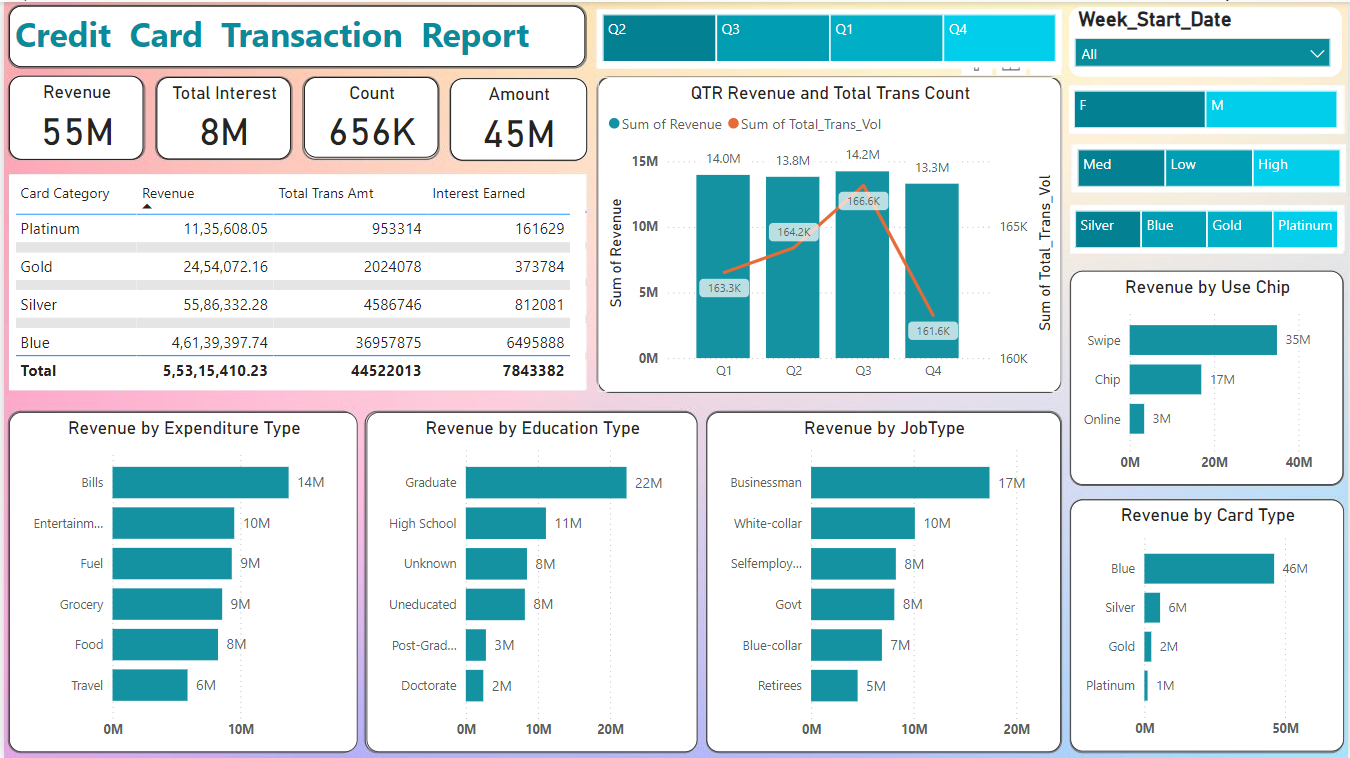

The dashboard page shown, as its layout file describes it:
{"tool":"powerbi","page":{"name":"CC Transaction","canvas":[1280,720],"ordinal":1},"visuals":[{"type":"textbox","box":[5.3,4,549,58.7],"z":0},{"type":"lineStackedColumnComboChart","title":"QTR Revenue and Total Trans Count","fields":{"Category":["Processed_Credit_Card_Data.Qtr"],"Y":["Sum(Processed_Credit_Card_Data.Revenue)"],"Y2":["Sum(Processed_Credit_Card_Data.Total_Trans_Vol)"]},"box":[565.8,71,441.7,300.8],"z":1000},{"type":"barChart","title":"Revenue by Expenditure Type","fields":{"Y":["Sum(Processed_Credit_Card_Data.Revenue)"],"Category":["Processed_Credit_Card_Data.Exp Type"]},"box":[4.8,390.5,332.1,323.8],"z":2000},{"type":"barChart","title":"Revenue by Education Type","fields":{"Y":["Sum(Processed_Credit_Card_Data.Revenue)"],"Category":["customer.Education_Level"]},"box":[345,390,315,324.4],"z":3000},{"type":"barChart","title":"Revenue by JobType","fields":{"Y":["Sum(Processed_Credit_Card_Data.Revenue)"],"Category":["customer.Customer_Job"]},"box":[669.4,390,337.5,324.4],"z":4000},{"type":"barChart","title":"Revenue by Card Type","fields":{"Y":["Sum(Processed_Credit_Card_Data.Revenue)"],"Category":["Processed_Credit_Card_Data.Card_Category"]},"box":[1015,474.4,260.6,240],"z":5000},{"type":"barChart","title":"Revenue by Use Chip","fields":{"Y":["Sum(Processed_Credit_Card_Data.Revenue)"],"Category":["Processed_Credit_Card_Data.Use Chip"]},"box":[1015,255.8,260,204.2],"z":6000},{"type":"tableEx","fields":{"Values":["Processed_Credit_Card_Data.Card_Category","Sum(Processed_Credit_Card_Data.Revenue)","Sum(Processed_Credit_Card_Data.Total_Trans_Amt)","Sum(Processed_Credit_Card_Data.Interest_Earned)"]},"box":[5.1,163.7,549,205.7],"z":7000},{"type":"card","title":"Revenue","fields":{"Values":["Sum(Processed_Credit_Card_Data.Revenue)"]},"box":[5,70,128,80],"z":8000},{"type":"card","title":"Amount","fields":{"Values":["Sum(Processed_Credit_Card_Data.Total_Trans_Amt)"]},"box":[425.3,72.7,130,78],"z":9000},{"type":"card","title":"Total Interest","fields":{"Values":["Sum(Processed_Credit_Card_Data.Interest_Earned)"]},"box":[145.6,71,128.1,78],"z":10000},{"type":"card","title":"Count","fields":{"Values":["Sum(Processed_Credit_Card_Data.Total_Trans_Vol)"]},"box":[285.6,71.9,128.1,77],"z":11000},{"type":"slicer","fields":{"Values":["Processed_Credit_Card_Data.Week_Start_Date"]},"box":[1014.9,4.3,259.7,66],"z":12000},{"type":"treemap","fields":{"Group":["Processed_Credit_Card_Data.Qtr"],"Values":["CountNonNull(Processed_Credit_Card_Data.Client_Num)"]},"box":[565.6,7.5,441.2,55],"z":13000},{"type":"treemap","fields":{"Values":["Avg(Processed_Credit_Card_Data.Client_Num)"],"Group":["customer.Gender"]},"box":[1014.7,80,260.7,45.3],"z":14000},{"type":"treemap","fields":{"Values":["Avg(Processed_Credit_Card_Data.Client_Num)"],"Group":["Processed_Credit_Card_Data.Card_Category"]},"box":[1016,194,260,45.3],"z":15000},{"type":"treemap","fields":{"Values":["Avg(Processed_Credit_Card_Data.Client_Num)"],"Group":["customer.IncomeGroup"]},"box":[1018,136,260,45.3],"z":16000}]}

Visuals, with their boxes in screenshot pixels (x1, y1, x2, y2), scaled from the page's 1280x720 canvas onto the 1350x758 screenshot:
textbox: crop(6, 4, 585, 66)
"QTR Revenue and Total Trans Count" lineStackedColumnComboChart: crop(597, 75, 1063, 391)
"Revenue by Expenditure Type" barChart: crop(5, 411, 355, 752)
"Revenue by Education Type" barChart: crop(364, 411, 696, 752)
"Revenue by JobType" barChart: crop(706, 411, 1062, 752)
"Revenue by Card Type" barChart: crop(1071, 499, 1345, 752)
"Revenue by Use Chip" barChart: crop(1071, 269, 1345, 484)
tableEx - Processed_Credit_Card_Data.Card_Category x Sum(Processed_Credit_Card_Data.Revenue): crop(5, 172, 584, 389)
"Revenue" card: crop(5, 74, 140, 158)
"Amount" card: crop(449, 77, 586, 159)
"Total Interest" card: crop(154, 75, 289, 157)
"Count" card: crop(301, 76, 436, 157)
slicer - Processed_Credit_Card_Data.Week_Start_Date: crop(1070, 5, 1344, 74)
treemap - Processed_Credit_Card_Data.Qtr x CountNonNull(Processed_Credit_Card_Data.Client_Num): crop(597, 8, 1062, 66)
treemap - Avg(Processed_Credit_Card_Data.Client_Num) x customer.Gender: crop(1070, 84, 1345, 132)
treemap - Avg(Processed_Credit_Card_Data.Client_Num) x Processed_Credit_Card_Data.Card_Category: crop(1072, 204, 1346, 252)
treemap - Avg(Processed_Credit_Card_Data.Client_Num) x customer.IncomeGroup: crop(1074, 143, 1348, 191)
